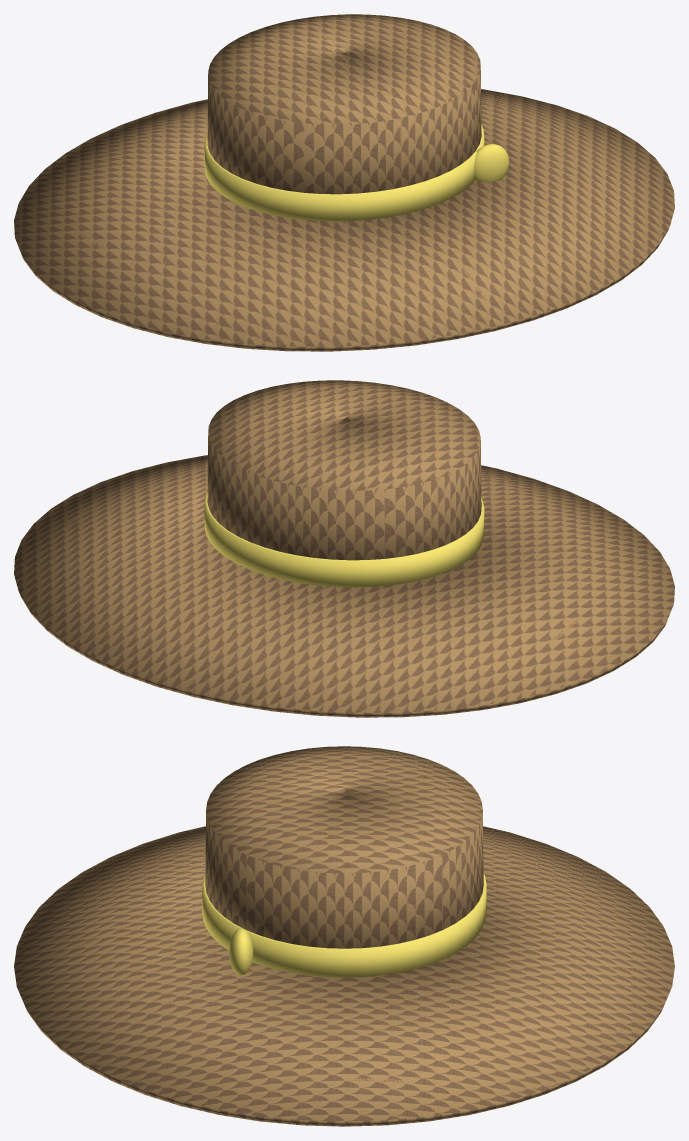
The model's file is sunhat1.fbx.
3 renders of one model, top to bottom at view 1: azimuth 30°, elevation 25°; view 2: azimuth 150°, elevation 25°; view 3: azimuth 270°, elevation 25°, orthographic. The views are drawn at different scales.
Visible parts, largest first — view 1: sunhat1; view 2: sunhat1; view 3: sunhat1.
Part boxes in pixels (box(x1,y1,x2,y2)): sunhat1: box(14, 14, 674, 351); sunhat1: box(14, 380, 674, 717); sunhat1: box(14, 746, 674, 1126).
Bounding box in the file's own units: 1.21 × 0.33 × 1.09.
Materials: 2 (1 with a texture image).
